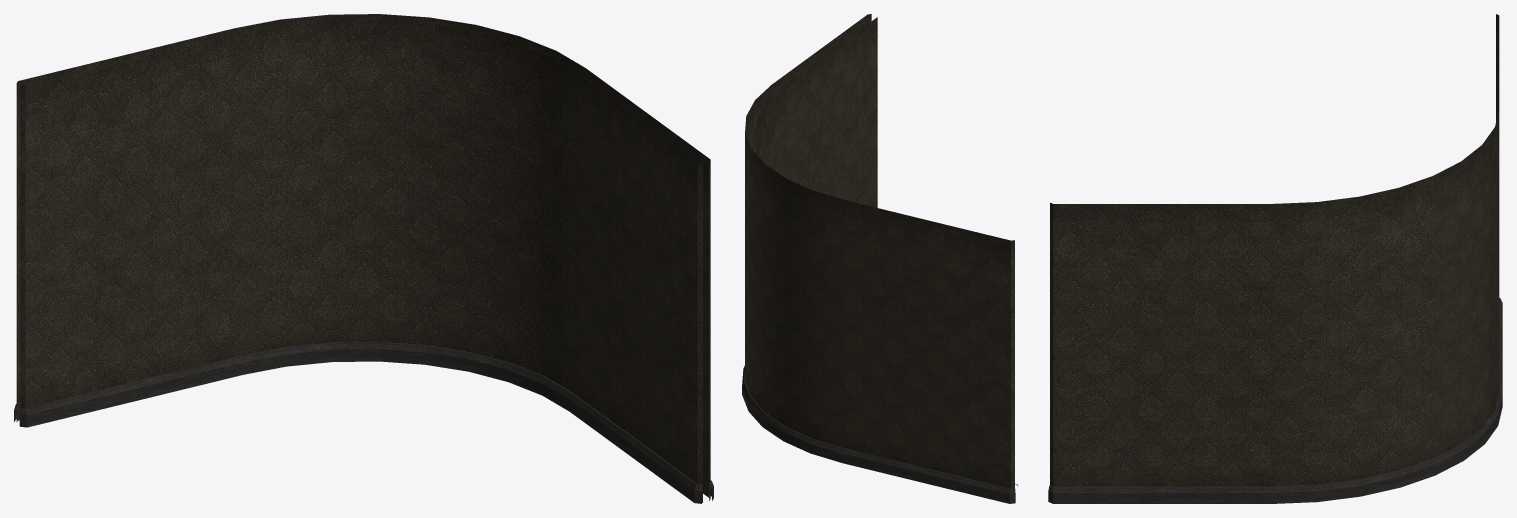
Rendered from wall_1_2_rounded_corner_1.glb.
3 views of the same model, side by side, from view 1: azimuth 30°, elevation 25°; view 2: azimuth 150°, elevation 25°; view 3: azimuth 270°, elevation 25° (orthographic). The views are drawn at different scales.
Parts seen in each view (by area): view 1: wall_1_2_rounded_corner_1; view 2: wall_1_2_rounded_corner_1; view 3: wall_1_2_rounded_corner_1.
Boxes of the visible parts, x1=… form: wall_1_2_rounded_corner_1: x1=14, y1=14, x2=713, y2=503; wall_1_2_rounded_corner_1: x1=742, y1=14, x2=1017, y2=503; wall_1_2_rounded_corner_1: x1=1048, y1=14, x2=1502, y2=503.
Bounding box in the file's own units: 4.14 × 3 × 4.14.
Materials: 2 (2 with a texture image).
